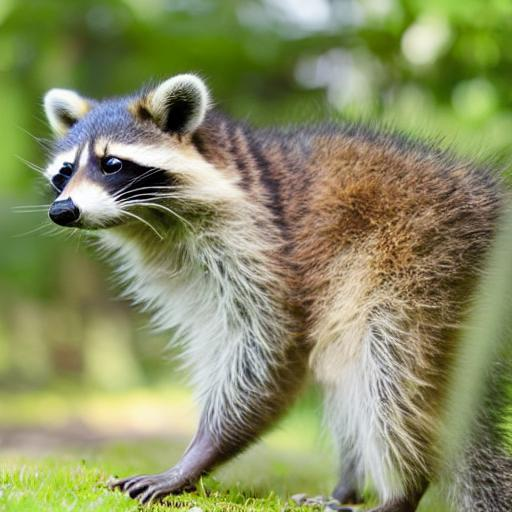raccoon: (26, 69, 512, 449)
